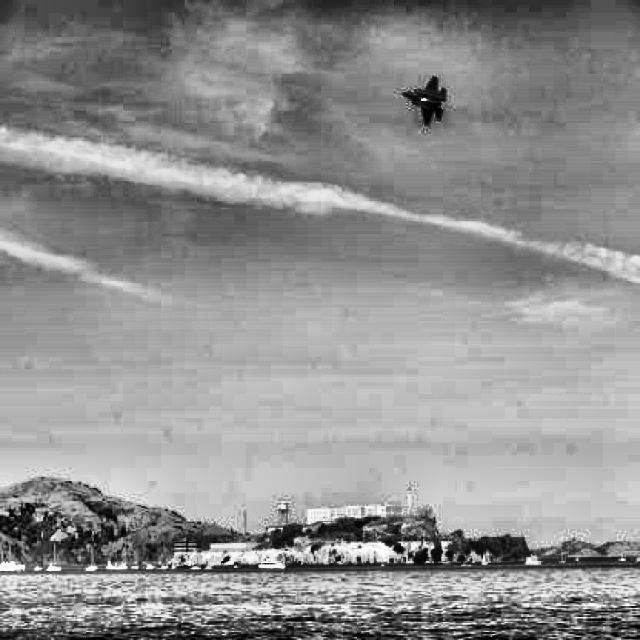F35: (402, 76, 446, 126)
